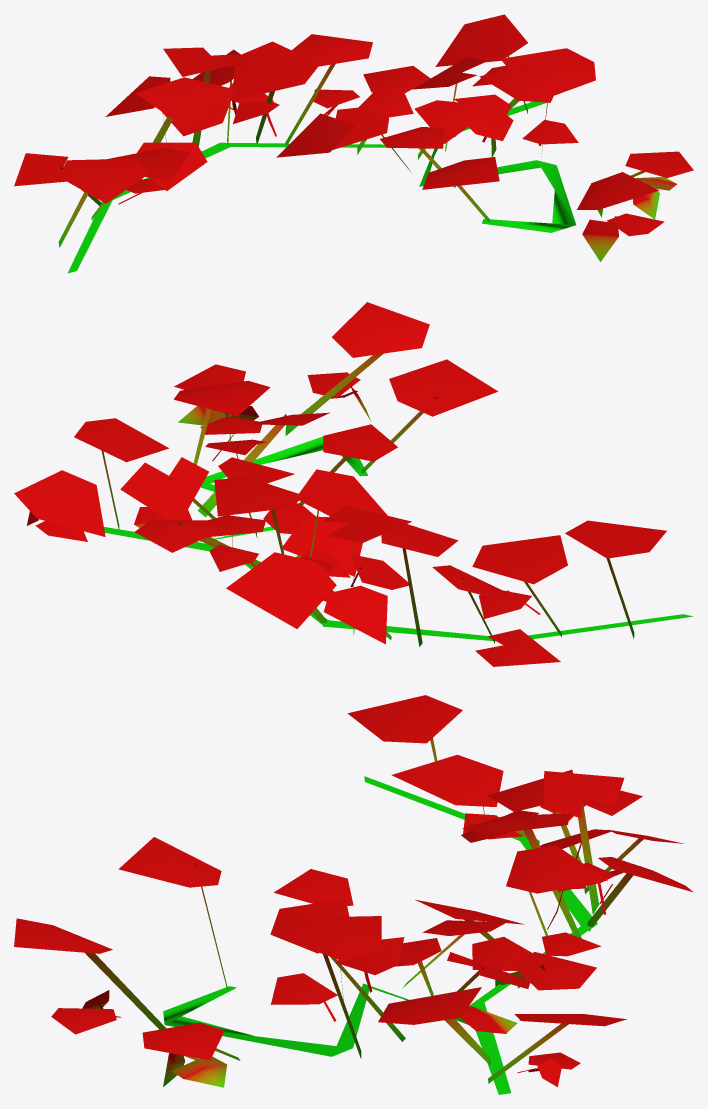
Rendered from Var6_LOD4.fbx.
3 renders of one model, top to bottom at view 1: azimuth 30°, elevation 25°; view 2: azimuth 150°, elevation 25°; view 3: azimuth 270°, elevation 25°, orthographic. The views are drawn at different scales.
Visible parts, largest first — view 1: _ata1_Var6_LOD4; view 2: _ata1_Var6_LOD4; view 3: _ata1_Var6_LOD4.
Boxes of the visible parts, x1=… form: _ata1_Var6_LOD4: x1=14, y1=14, x2=693, y2=273; _ata1_Var6_LOD4: x1=14, y1=302, x2=693, y2=666; _ata1_Var6_LOD4: x1=14, y1=695, x2=693, y2=1094.
Bounding box in the file's own units: 63.34 × 12.1 × 55.78.
